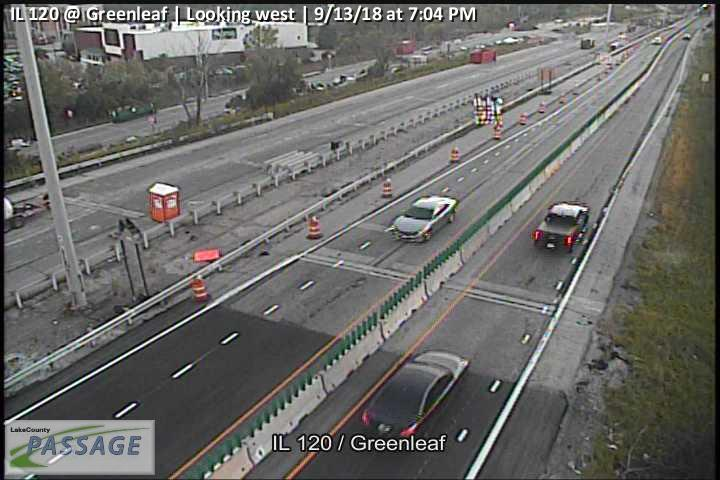SUV: (530, 202, 590, 253)
Sedan: (360, 350, 471, 442), (391, 195, 458, 243)
